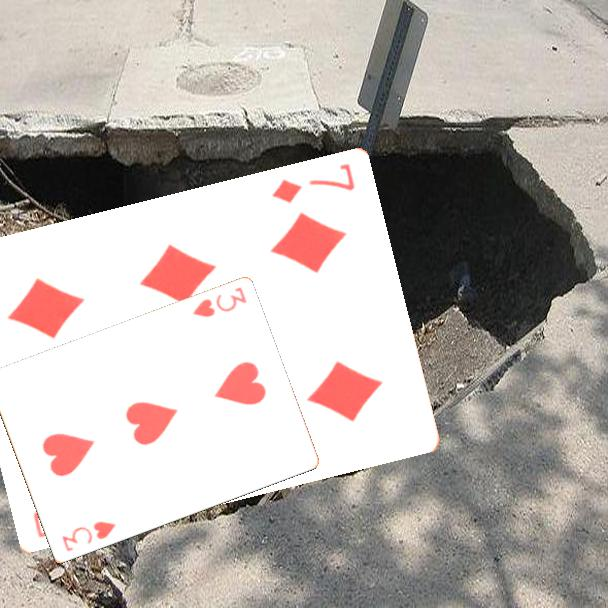d07: (268, 160, 358, 207)
h03: (58, 518, 118, 555), (189, 284, 249, 321)
